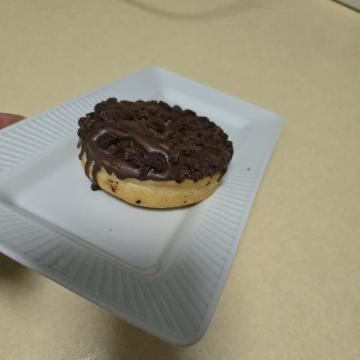doughnut: (91, 119, 228, 296)
